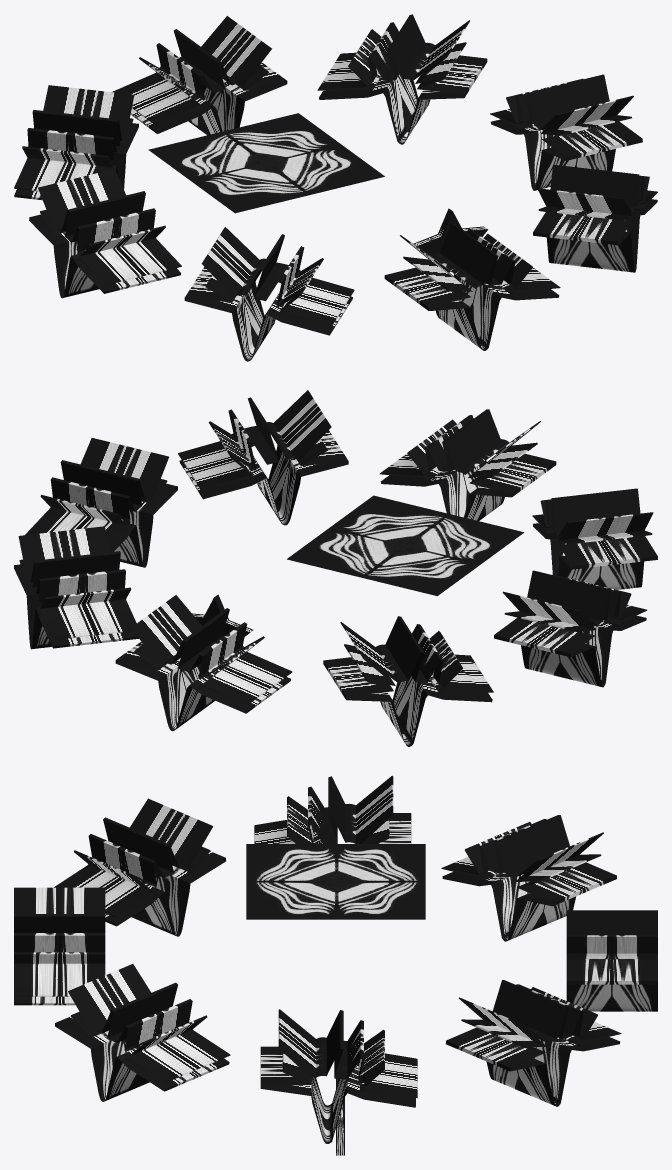
3 views of the same model, one above another, from view 1: azimuth 30°, elevation 25°; view 2: azimuth 150°, elevation 25°; view 3: azimuth 270°, elevation 25° (orthographic). The views are drawn at different scales.
Visible parts, largest first — view 1: no_alpha, no_alpha.2, no_alpha.8, no_alpha.3, no_alpha.4, no_alpha.7, no_alpha.5, no_alpha.6, no_alpha.1, Cap_1; view 2: no_alpha, no_alpha.8, no_alpha.7, no_alpha.5, no_alpha.6, no_alpha.2, no_alpha.1, no_alpha.4, no_alpha.3; view 3: no_alpha, no_alpha.5, no_alpha.3, no_alpha.7, no_alpha.1, no_alpha.6, no_alpha.4, no_alpha.8, no_alpha.2.
Boxes of the visible parts, x1,y1,x2,y2 form: no_alpha: [148, 113, 384, 213]; no_alpha.2: [29, 169, 181, 298]; no_alpha.8: [112, 16, 287, 135]; no_alpha.3: [184, 227, 354, 361]; no_alpha.4: [384, 223, 560, 350]; no_alpha.7: [317, 14, 487, 144]; no_alpha.5: [533, 165, 657, 272]; no_alpha.6: [490, 74, 642, 190]; no_alpha.1: [14, 85, 138, 200]; Cap_1: [418, 212, 487, 272]; no_alpha: [287, 495, 524, 596]; no_alpha.8: [115, 595, 292, 731]; no_alpha.7: [14, 526, 138, 649]; no_alpha.5: [178, 390, 348, 525]; no_alpha.6: [25, 438, 177, 567]; no_alpha.2: [494, 570, 647, 687]; no_alpha.1: [323, 616, 493, 746]; no_alpha.4: [379, 409, 556, 520]; no_alpha.3: [532, 488, 657, 589]; no_alpha: [246, 844, 425, 919]; no_alpha.5: [55, 964, 230, 1101]; no_alpha.3: [54, 798, 225, 936]; no_alpha.7: [445, 980, 621, 1106]; no_alpha.1: [441, 815, 616, 941]; no_alpha.6: [260, 1009, 417, 1143]; no_alpha.4: [14, 887, 105, 1005]; no_alpha.8: [566, 910, 657, 1011]; no_alpha.2: [254, 775, 411, 843].
Bounding box in the file's own units: 1438 × 429 × 1438.
Materials: 1 (1 with a texture image).
